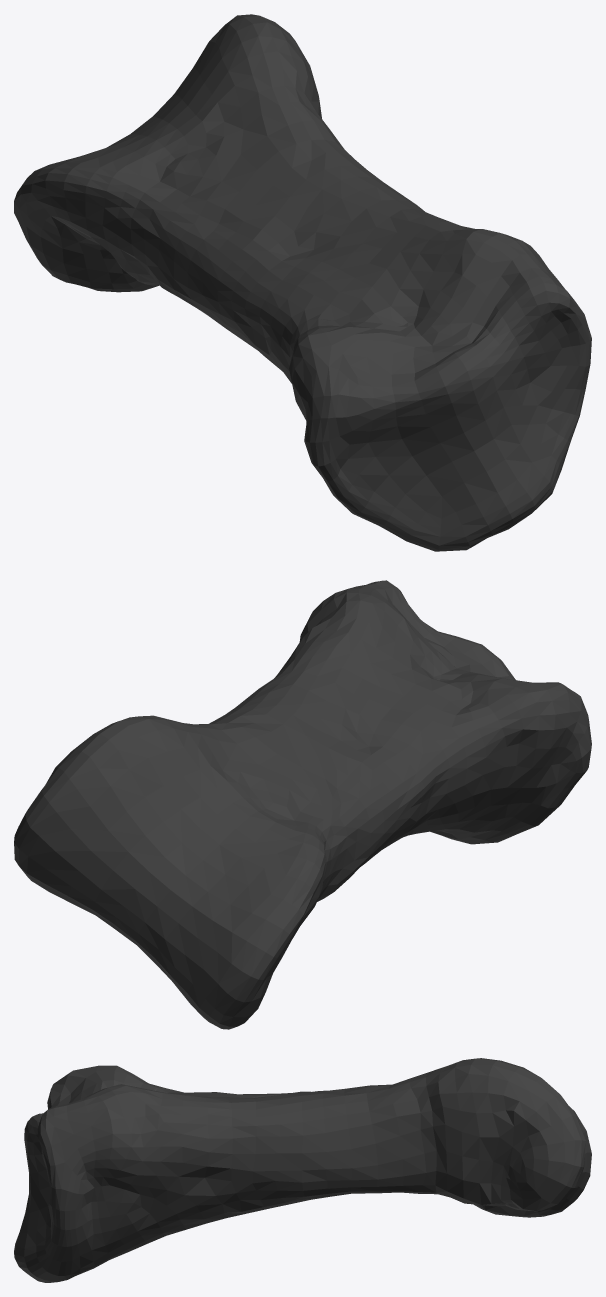
Rendered from Middle_phalange_5.glb.
The picture shows the model from 3 angles, top to bottom: view 1: azimuth 30°, elevation 25°; view 2: azimuth 150°, elevation 25°; view 3: azimuth 270°, elevation 25°; orthographic projection. The views are drawn at different scales.
Visible parts, largest first — view 1: Middle_phalange_5; view 2: Middle_phalange_5; view 3: Middle_phalange_5.
Boxes of the visible parts, bbox=[...] form: Middle_phalange_5: bbox=[14, 14, 591, 551]; Middle_phalange_5: bbox=[14, 580, 591, 1029]; Middle_phalange_5: bbox=[14, 1058, 591, 1282].
Size of the model in its own units: 0.1054 by 0.1057 by 0.228.
1 material, 1 textured.
